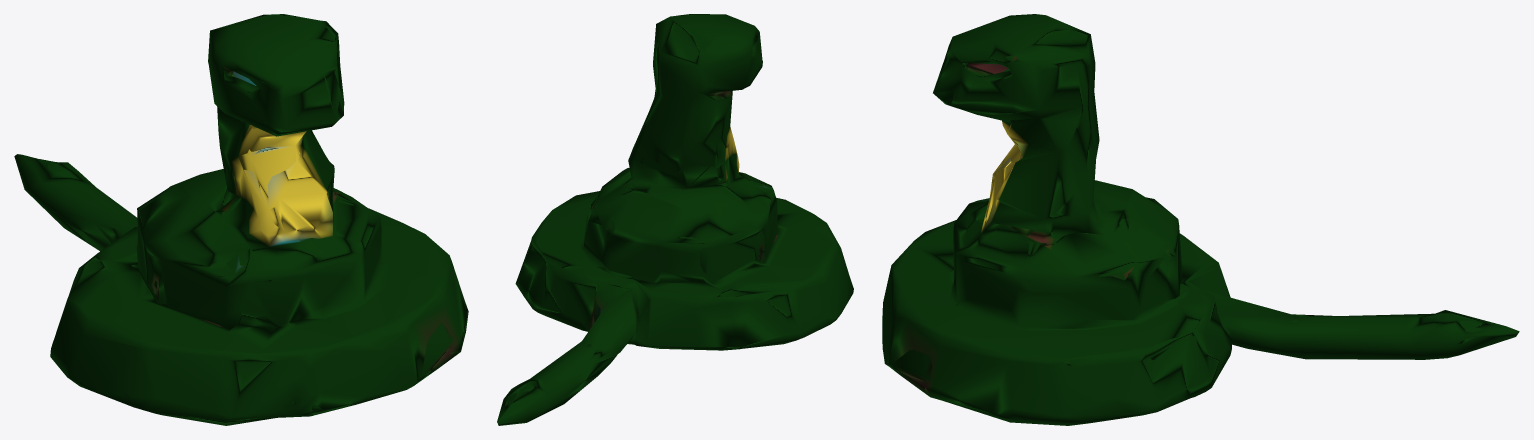
Rendered from gen3d-snake-lod0.glb.
3 renders of one model, left to right at view 1: azimuth 30°, elevation 25°; view 2: azimuth 150°, elevation 25°; view 3: azimuth 270°, elevation 25°, orthographic. The views are drawn at different scales.
Parts seen in each view (by area): view 1: part_0; view 2: part_0; view 3: part_0.
Boxes of the visible parts, x1,y1,x2,y2 form: part_0: [14, 14, 468, 425]; part_0: [497, 14, 853, 425]; part_0: [882, 14, 1519, 425].
Bounding box in the file's own units: 1.13 × 0.999 × 1.75.
